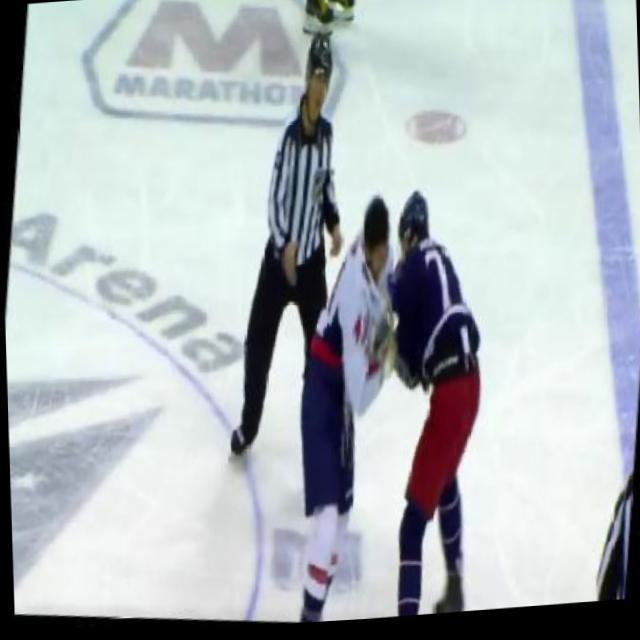fight: (265, 173, 513, 627)
